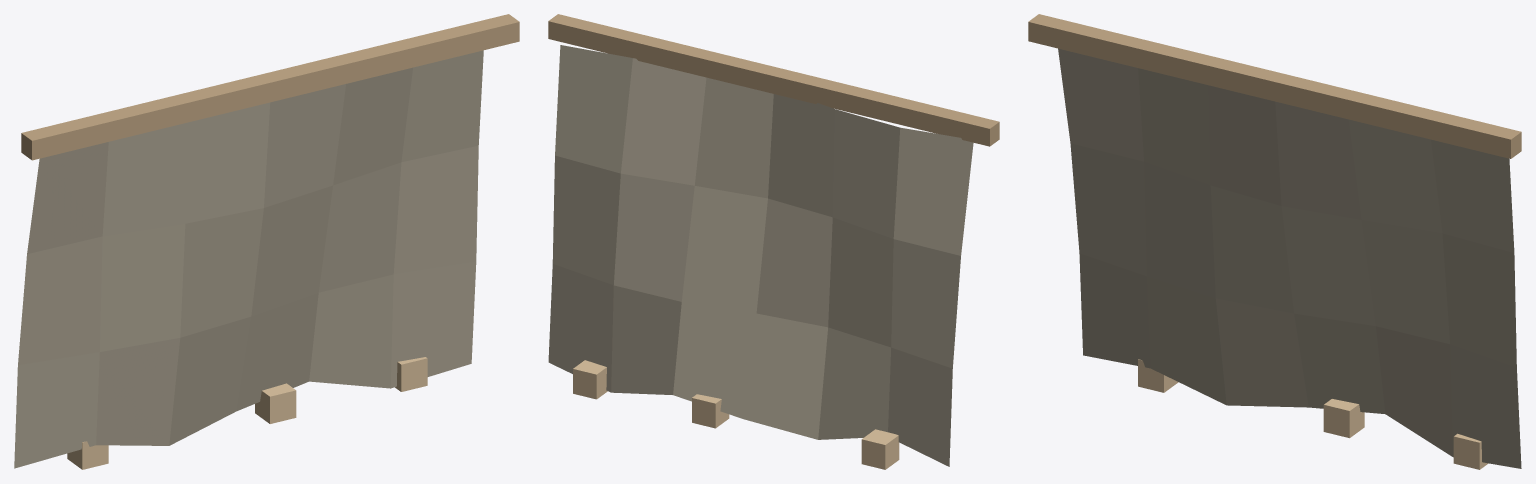
Rendered from prop-net-drape.fbx.
3 renders of one model, left to right at view 1: azimuth 30°, elevation 25°; view 2: azimuth 150°, elevation 25°; view 3: azimuth 330°, elevation 25°, orthographic. The views are drawn at different scales.
Parts seen in each view (by area): view 1: prop-net-drape; view 2: prop-net-drape; view 3: prop-net-drape.
Boxes of the visible parts, left/top/right/bottom form: prop-net-drape: left=14, top=14, right=519, bottom=469; prop-net-drape: left=548, top=14, right=999, bottom=469; prop-net-drape: left=1028, top=14, right=1521, bottom=469.
Size of the model in its own units: 130 by 94.5 by 21.
